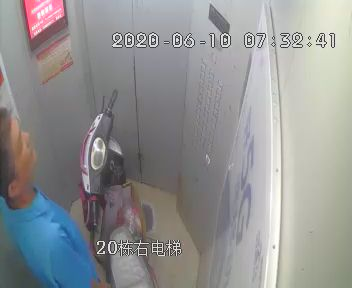Electric-bicycle: (79, 90, 160, 288)
